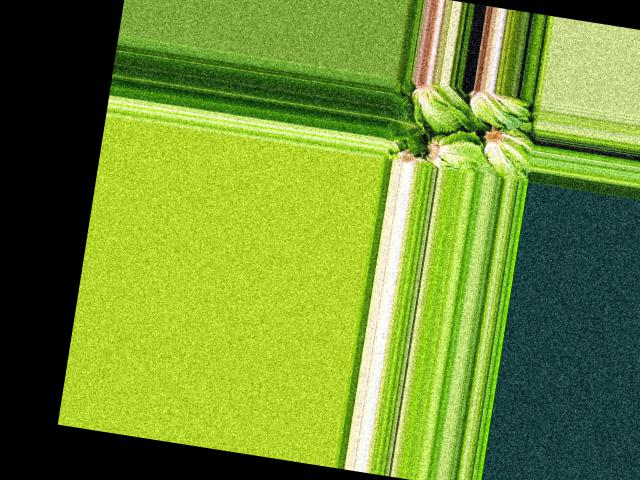lettuce: (384, 105, 424, 144)
